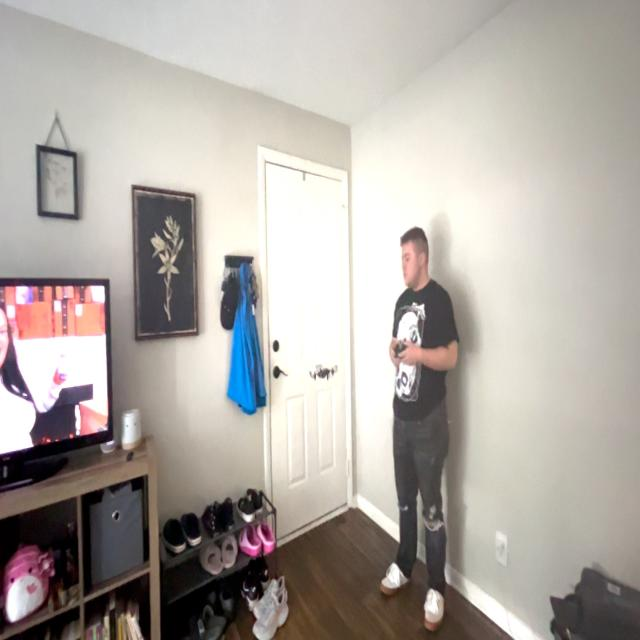drone: (306, 355, 348, 407)
